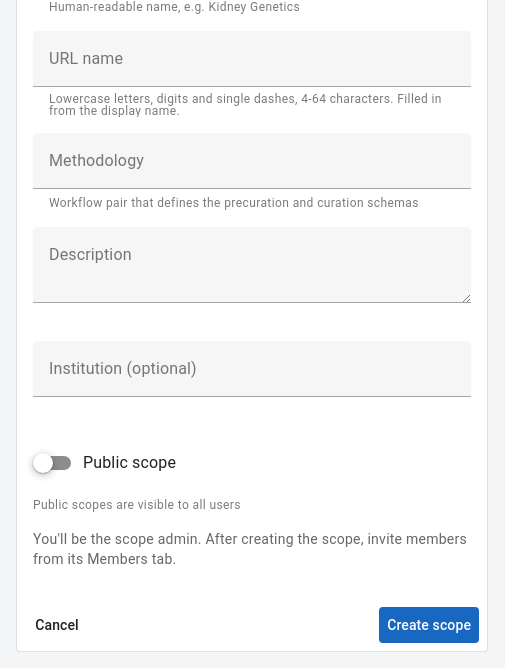
Test: ScopeCreate › validates on submit: an empty form is not sent and shows the errors
(page scrolled)
Click the button "Create scope" at (429, 625), box [379, 607, 479, 643]
(page scrolled)
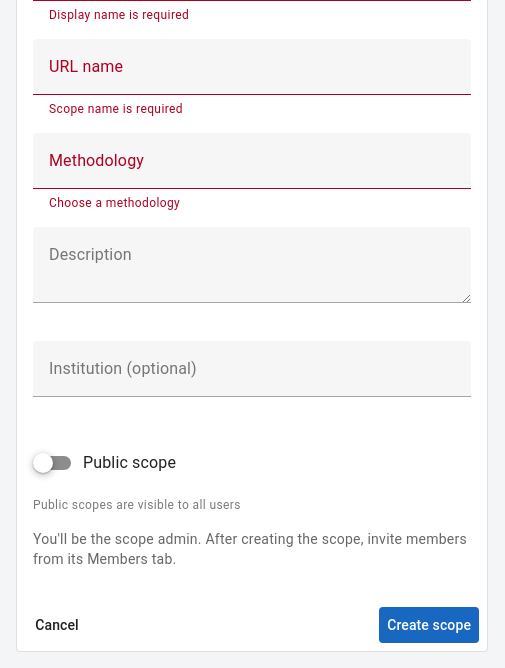
Check: the text "Display name is required" is shown, box [49, 8, 189, 22]
